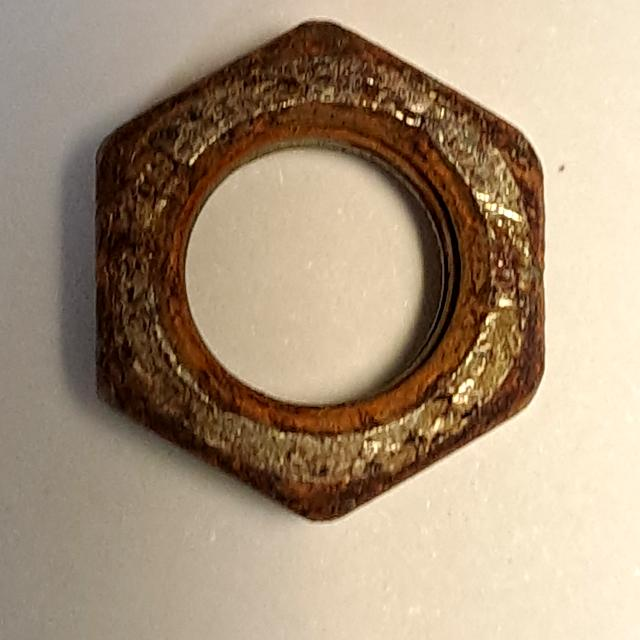Rust: (81, 4, 556, 551)
